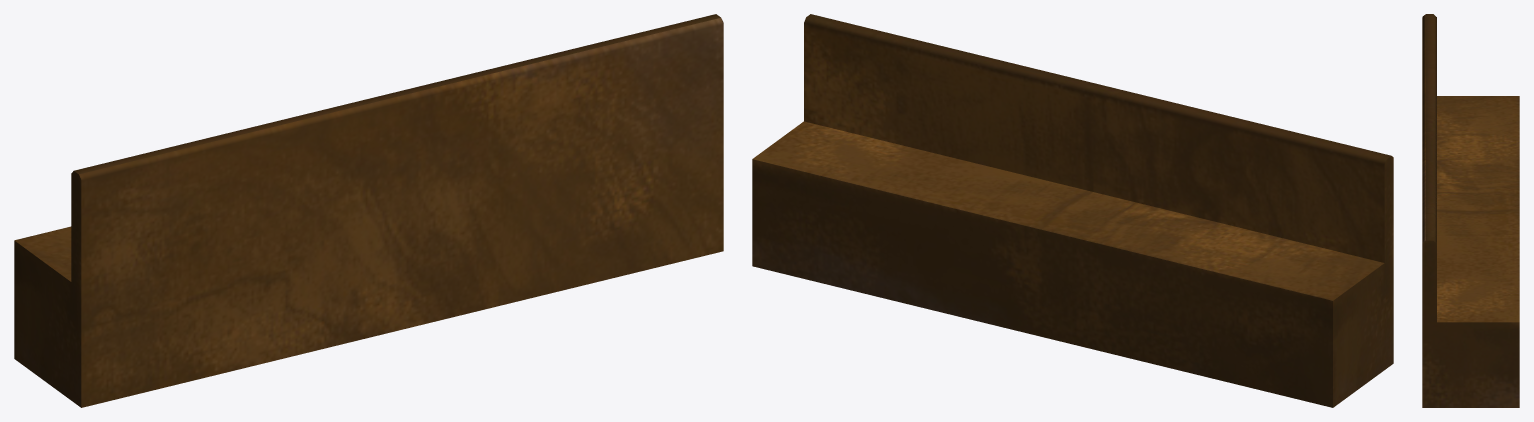
Rendered from Banco_Iglesia.fbx.
3 renders of one model, left to right at view 1: azimuth 30°, elevation 25°; view 2: azimuth 150°, elevation 25°; view 3: azimuth 270°, elevation 25°, orthographic. The views are drawn at different scales.
Visible parts, largest first — view 1: Banco_Iglesia; view 2: Banco_Iglesia; view 3: Banco_Iglesia.
Part boxes in pixels (x1,y1,x2,y2): Banco_Iglesia: [14, 14, 723, 407]; Banco_Iglesia: [752, 14, 1393, 407]; Banco_Iglesia: [1422, 14, 1519, 407].
Bounding box in the file's own units: 3.39 × 1.17 × 0.6131.
